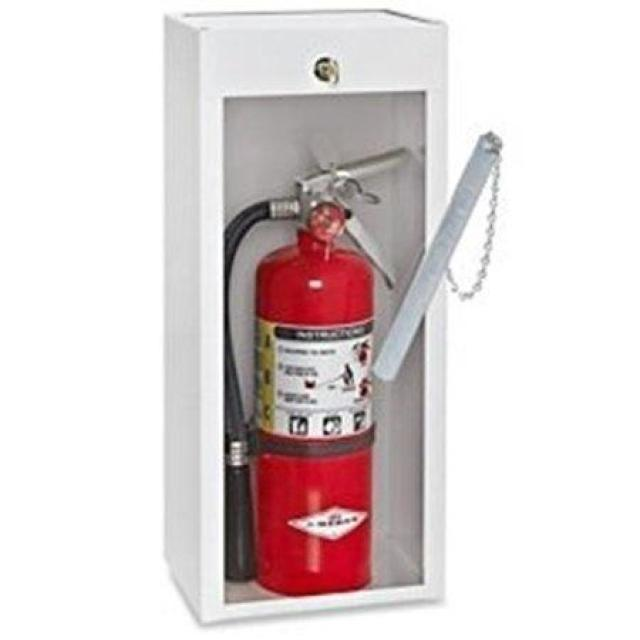fire_extinguisher: (203, 141, 420, 603)
